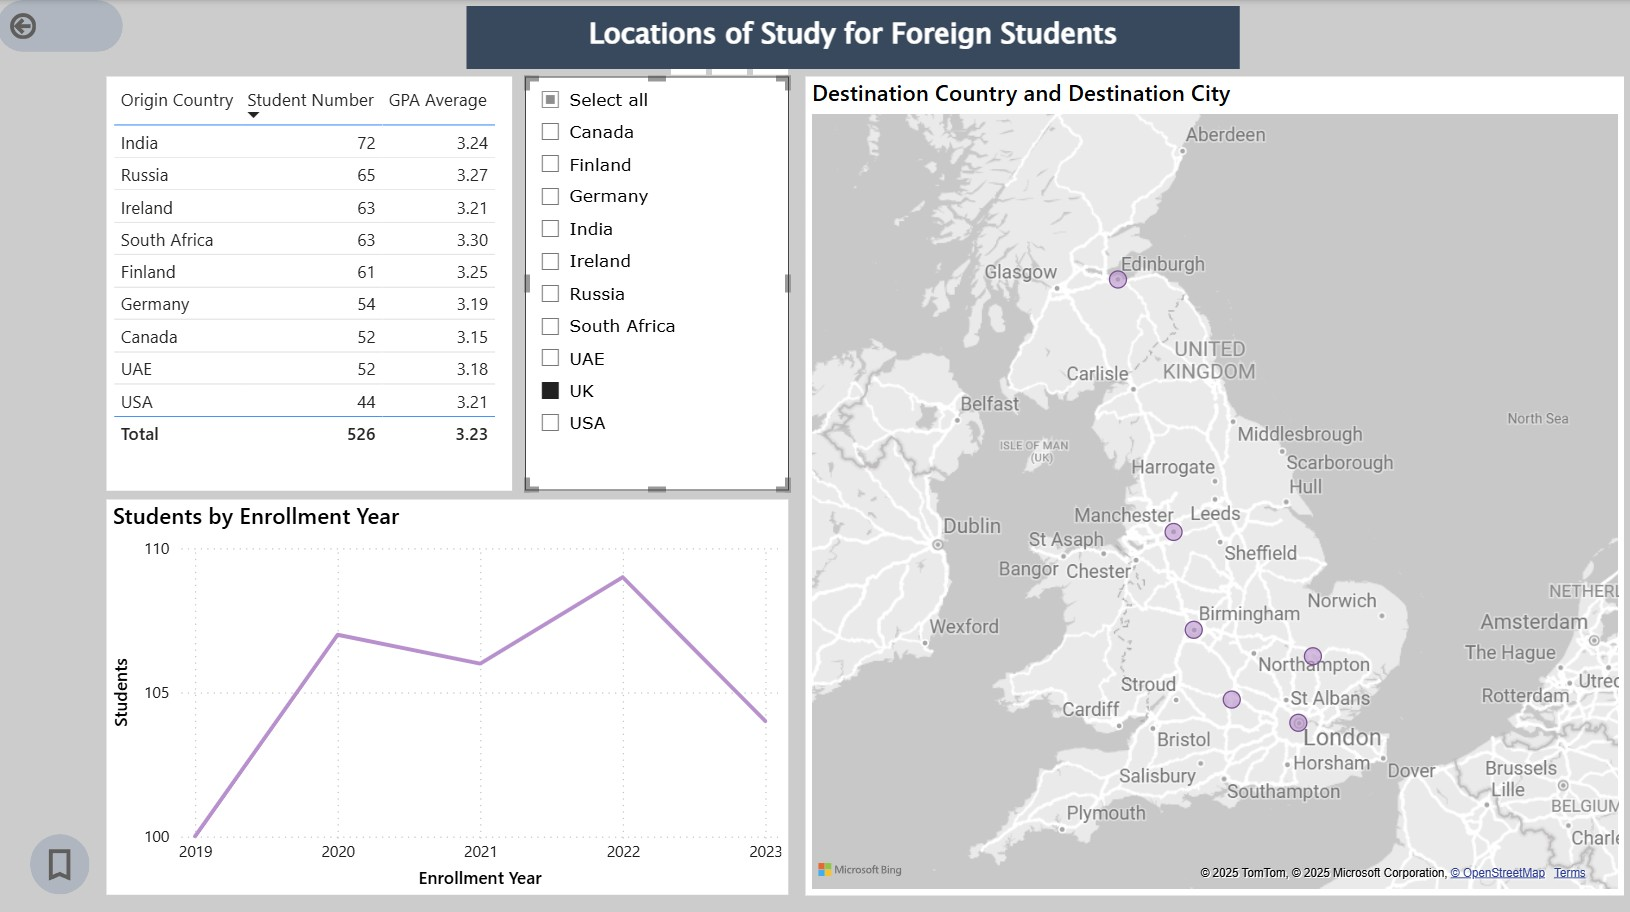

What the dashboard file says about the page in this screenshot:
{"tool":"powerbi","page":{"name":"Locations","canvas":[1280,720],"ordinal":1},"visuals":[{"type":"map","fields":{"Category":["global_student_migration.destination_country Hierarchy.destination_country","global_student_migration.destination_country Hierarchy.destination_city"]},"box":[624.5,59,632.7,632.1],"z":0},{"type":"actionButton","box":[0,0,97.3,40.2],"z":1000},{"type":"tableEx","fields":{"Values":["global_student_migration.origin_country","global_student_migration.StudentN","global_student_migration.GPAavg"]},"box":[84.7,59,313.2,320.1],"z":2000},{"type":"lineChart","fields":{"Category":["global_student_migration.year_of_enrollment"],"Y":["global_student_migration.StudentN"]},"box":[84.7,386,526.6,305],"z":3000},{"type":"slicer","fields":{"Values":["global_student_migration.destination_country"]},"box":[407.3,59,204,320.1],"z":4000},{"type":"textbox","box":[362.2,4.4,597.5,49],"z":5000},{"type":"actionButton","box":[25.9,644.1,46.1,46.8],"z":6000}]}

Visuals, with their boxes in screenshot pixels (x1, y1, x2, y2):
map - global_student_migration.destination_country Hierarchy.destination_country x global_student_migration.destination_country Hierarchy.destination_city: [801, 72, 1621, 891]
actionButton: [0, 0, 118, 48]
tableEx - global_student_migration.origin_country x global_student_migration.StudentN: [101, 72, 507, 487]
lineChart - global_student_migration.year_of_enrollment x global_student_migration.StudentN: [101, 496, 784, 891]
slicer - global_student_migration.destination_country: [519, 72, 784, 487]
textbox: [461, 1, 1235, 65]
actionButton: [25, 830, 85, 891]
